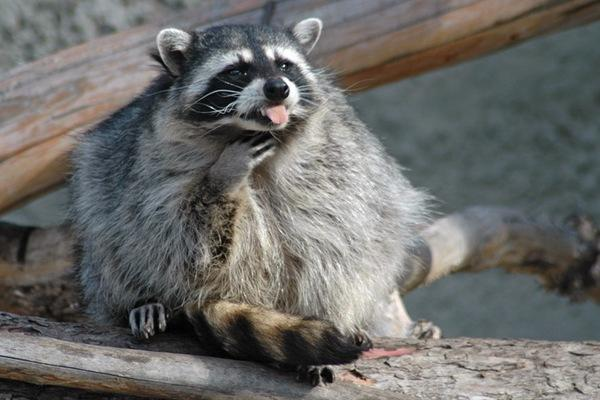raccoon: (65, 18, 600, 371)
